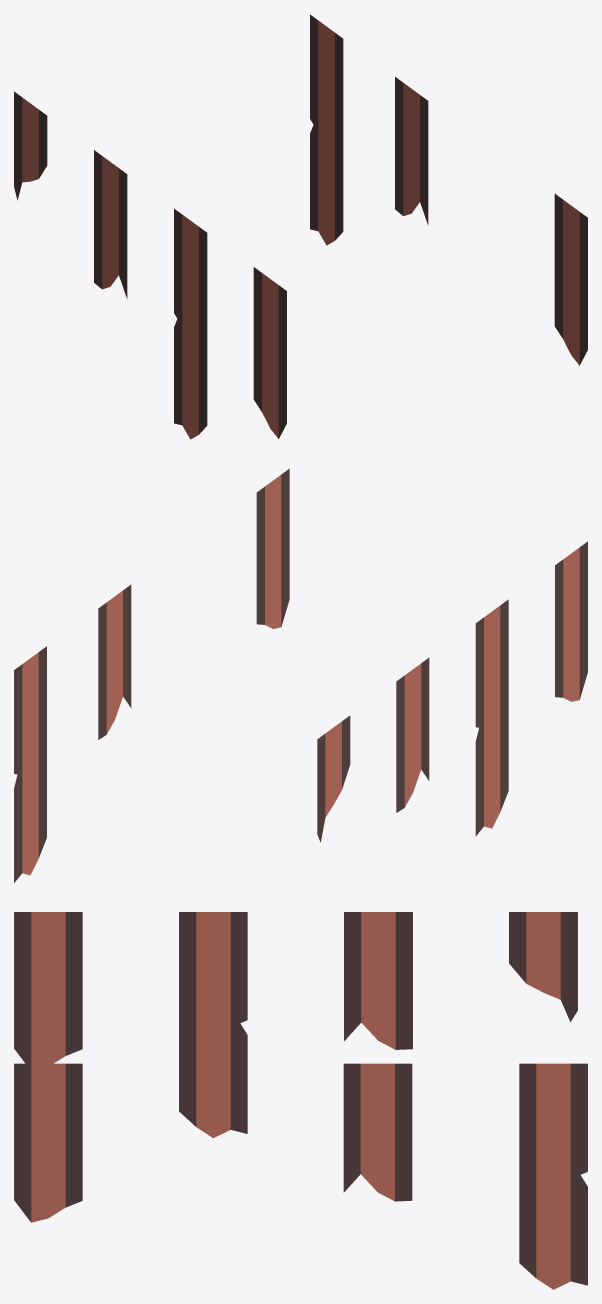
Rendered from Level1-5.fbx.
3 renders of one model, top to bottom at view 1: azimuth 30°, elevation 25°; view 2: azimuth 150°, elevation 25°; view 3: azimuth 270°, elevation 25°, orthographic. The views are drawn at different scales.
Visible parts, largest first — view 1: Level1-5; view 2: Level1-5; view 3: Level1-5.
Part boxes in pixels (x1,y1,x2,y2): Level1-5: (14,14,587,439); Level1-5: (14,468,587,882); Level1-5: (14,912,587,1289).
Bounding box in the file's own units: 101 × 70.57 × 162.
